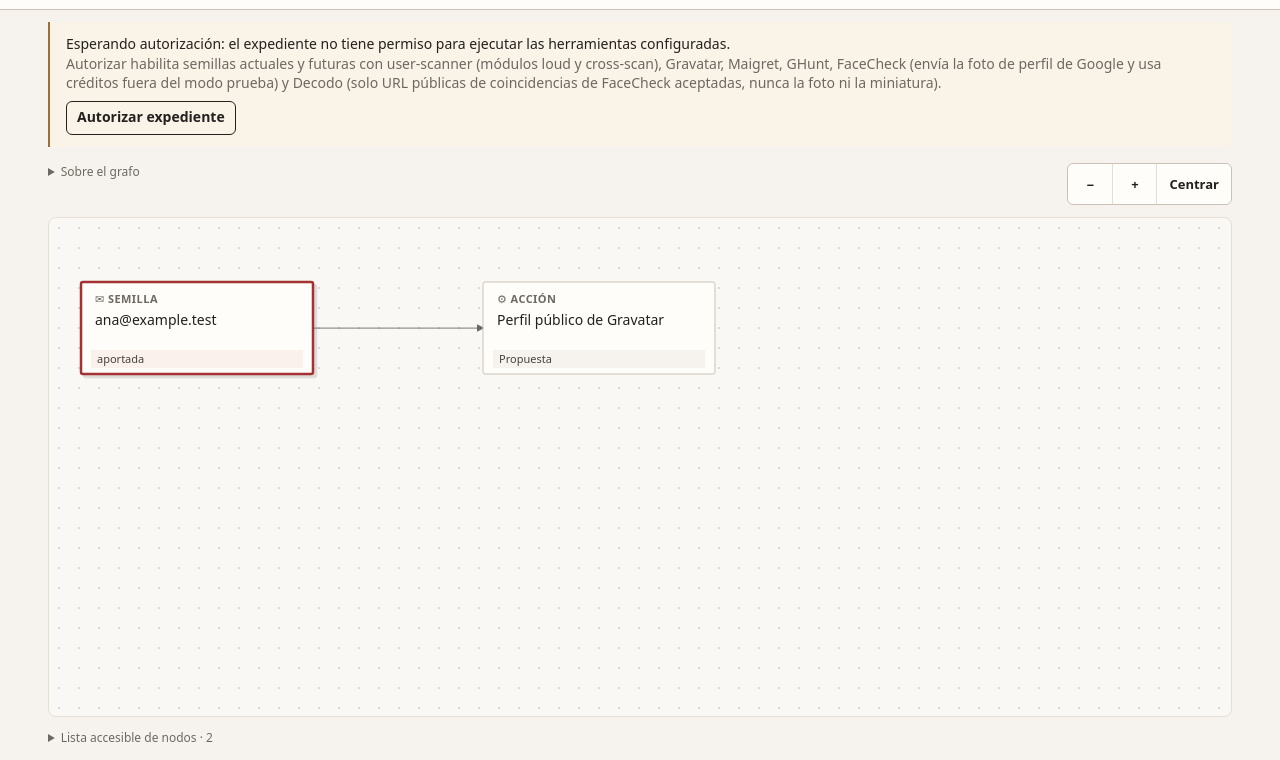
Test: espacio de investigación factual › bloquea la aprobación de Gravatar cuando el estado es desconocido
The width and height of the screenshot is (1280, 760).
(page scrolled)
Step 1. Click the heading "Lista accesible de nodos · 2" → [130, 738], box [48,729,213,747]
(page scrolled)
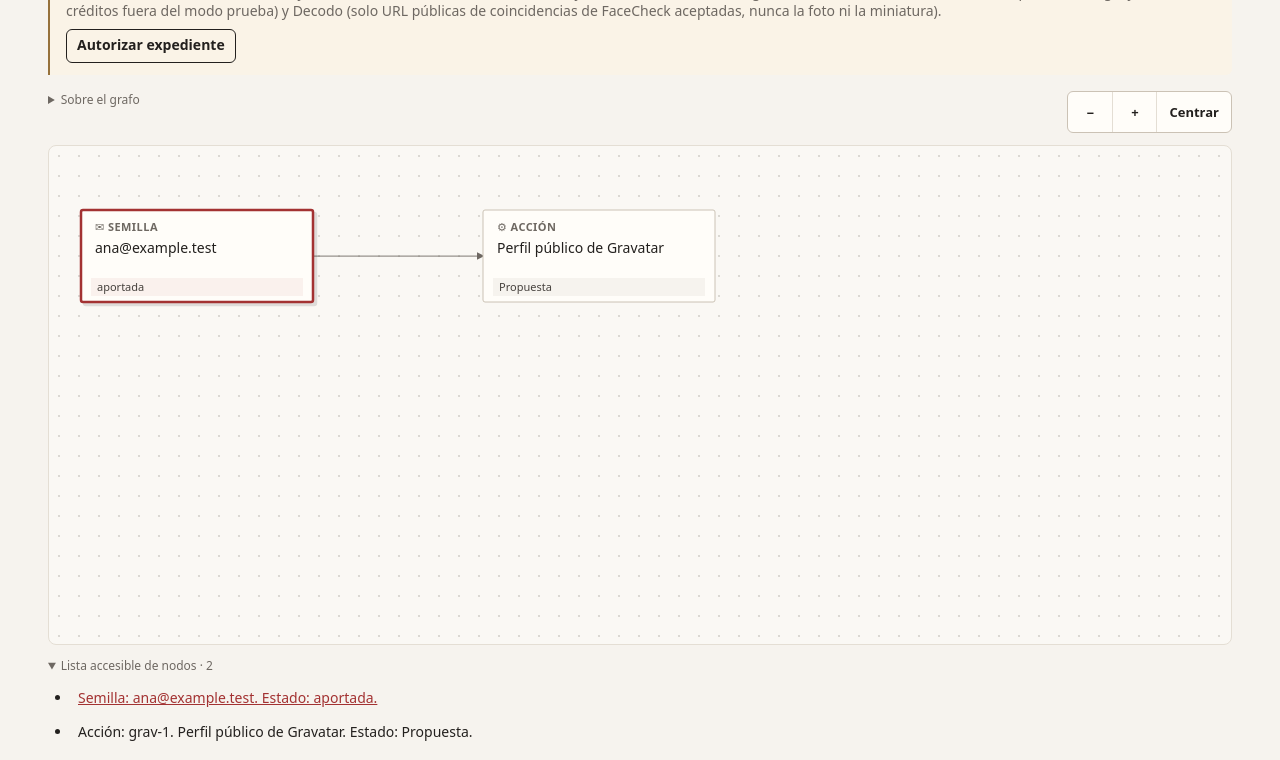
Step 2. Click the button "Acción: grav-1" → [275, 732], box [72,717,479,747]
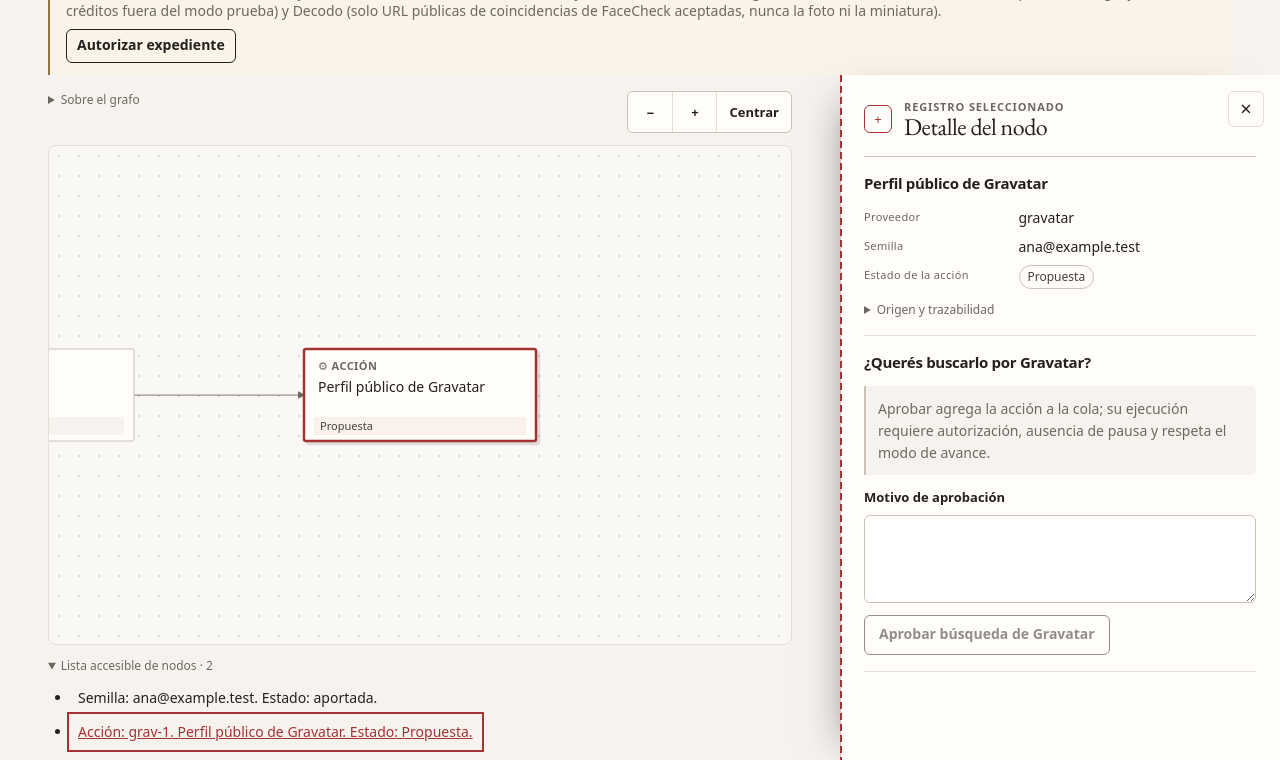
Step 3. Type "Consultar perfil" into the text box labelled "Motivo de aprobación" → [1060, 559], box [864,515,1256,603]
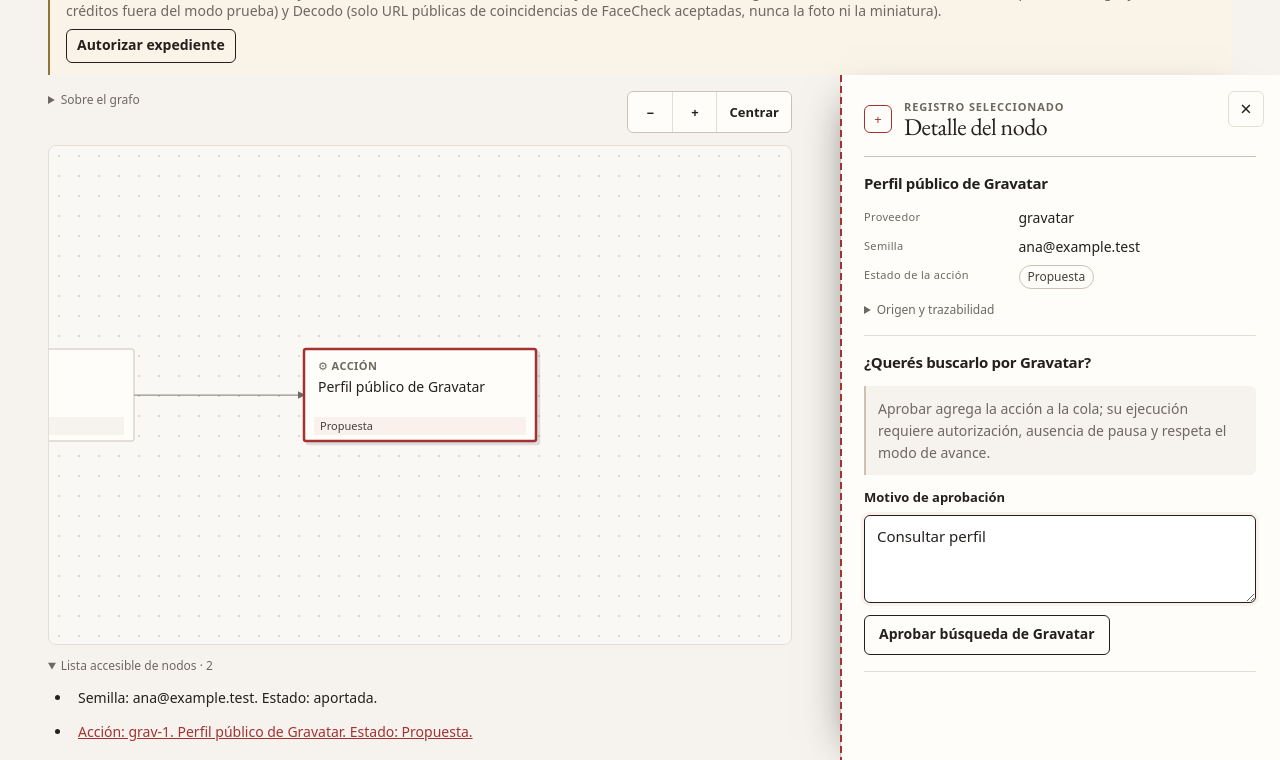
Step 4. Click the button "Aprobar búsqueda de Gravatar" → [987, 635], box [864,615,1110,655]
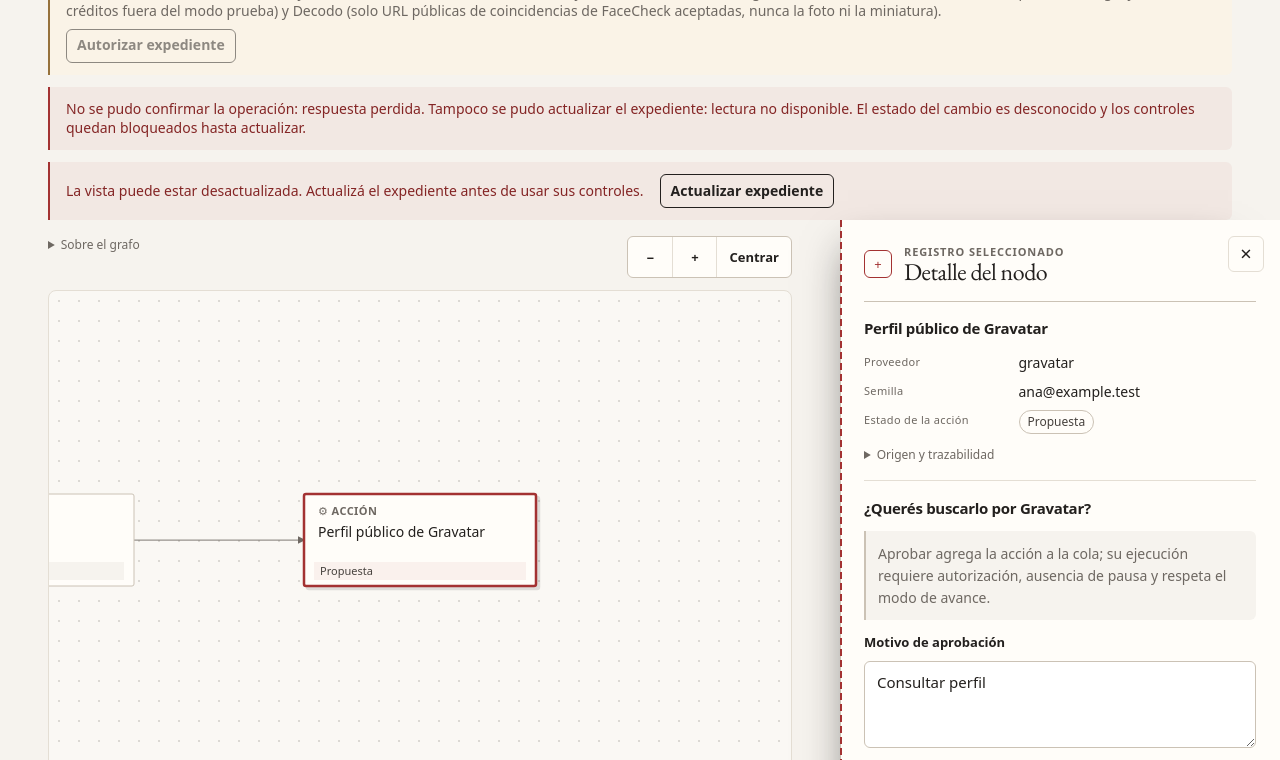
Now the text "No se pudo confirmar la operación" is shown, box [66,99,1195,137]
Now the text box labelled "Motivo de aprobación" is disabled, box [864,661,1256,748]
